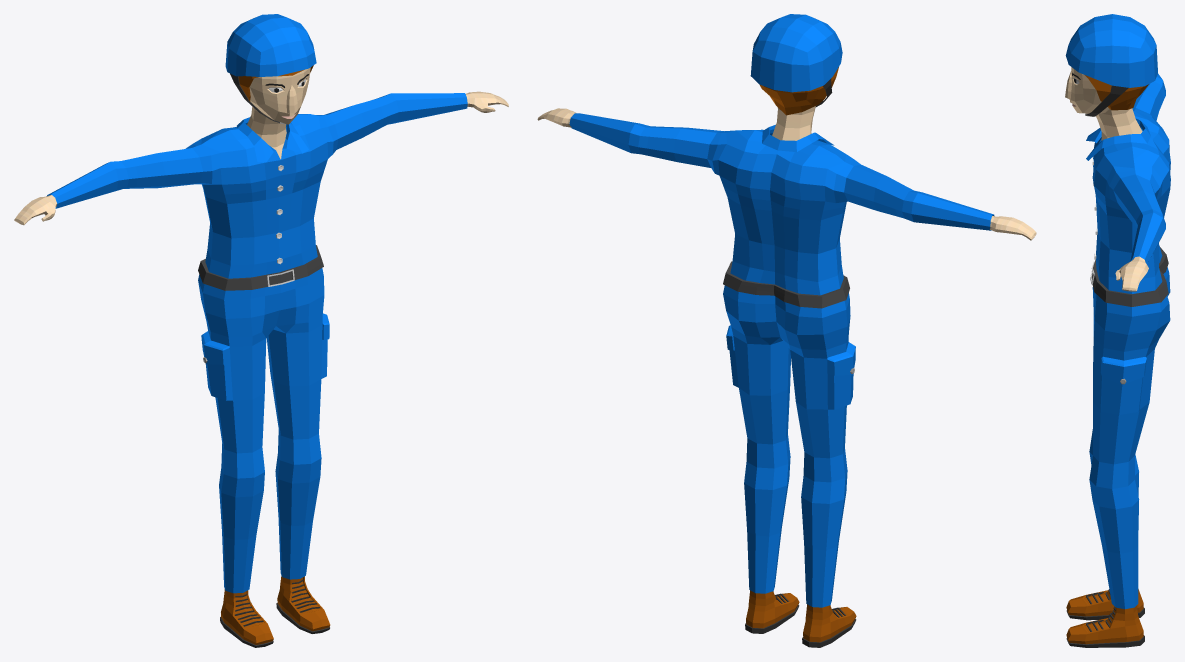
Rendered from PLayerTroops.fbx.
3 renders of one model, left to right at view 1: azimuth 30°, elevation 25°; view 2: azimuth 150°, elevation 25°; view 3: azimuth 270°, elevation 25°, orthographic.
Parts seen in each view (by area): view 1: Shirt, Helmet, Head, Shoes, Belt; view 2: Shirt, Helmet, Shoes, Head, Belt, Hair; view 3: Shirt, Helmet, Shoes, Head, Belt, Hair, ShoeLaecs.
Part boxes in pixels (bbox=[...]): Shirt: bbox=[47, 93, 467, 593]; Helmet: bbox=[225, 14, 316, 124]; Head: bbox=[14, 67, 508, 225]; Shoes: bbox=[220, 576, 330, 647]; Belt: bbox=[198, 245, 323, 290]; Shirt: bbox=[569, 113, 994, 607]; Helmet: bbox=[750, 14, 842, 106]; Shoes: bbox=[745, 590, 856, 647]; Head: bbox=[537, 106, 1036, 240]; Belt: bbox=[723, 261, 849, 308]; Hair: bbox=[759, 67, 838, 115]; Shirt: bbox=[1086, 73, 1170, 609]; Helmet: bbox=[1065, 14, 1157, 116]; Shoes: bbox=[1066, 589, 1144, 647]; Head: bbox=[1065, 67, 1148, 291]; Belt: bbox=[1090, 246, 1168, 306]; Hair: bbox=[1085, 75, 1148, 110]; ShoeLaecs: bbox=[1086, 589, 1115, 631].
Bounding box in the file's own units: 177 × 209 × 33.
1 material, 1 textured.
